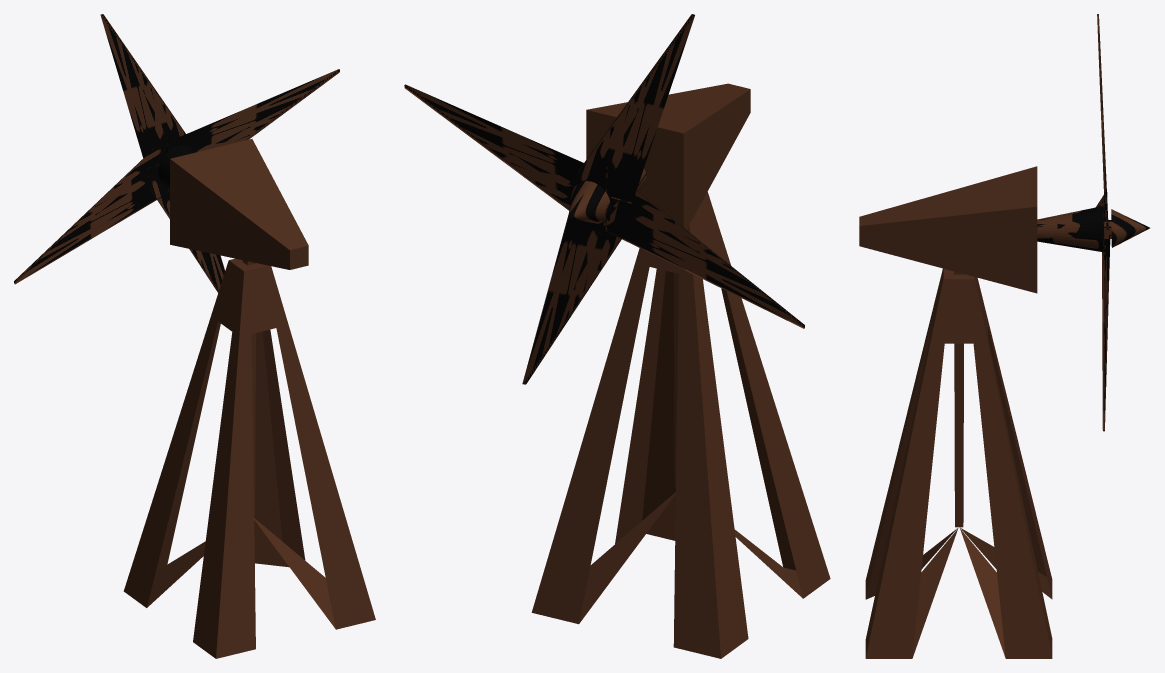
Rendered from Windmill.gltf.
The picture shows the model from 3 angles, left to right: view 1: azimuth 30°, elevation 25°; view 2: azimuth 150°, elevation 25°; view 3: azimuth 270°, elevation 25°; orthographic projection. The views are drawn at different scales.
Parts seen in each view (by area): view 1: Cube; view 2: Cube; view 3: Cube.
Part boxes in pixels (bbox=[...]): Cube: bbox=[14, 14, 375, 658]; Cube: bbox=[404, 14, 830, 658]; Cube: bbox=[859, 14, 1149, 658].
Bounding box in the file's own units: 12.59 × 20.35 × 9.5.
Materials: 1 (1 with a texture image).
